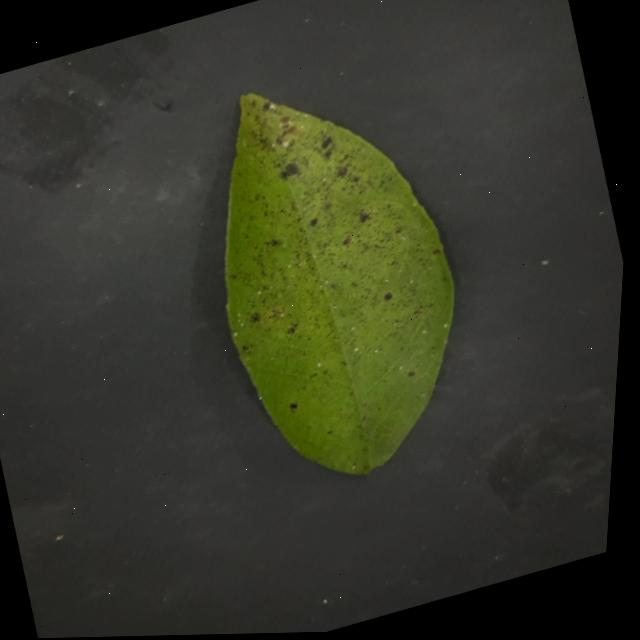greasy_spot: (224, 94, 452, 474)
